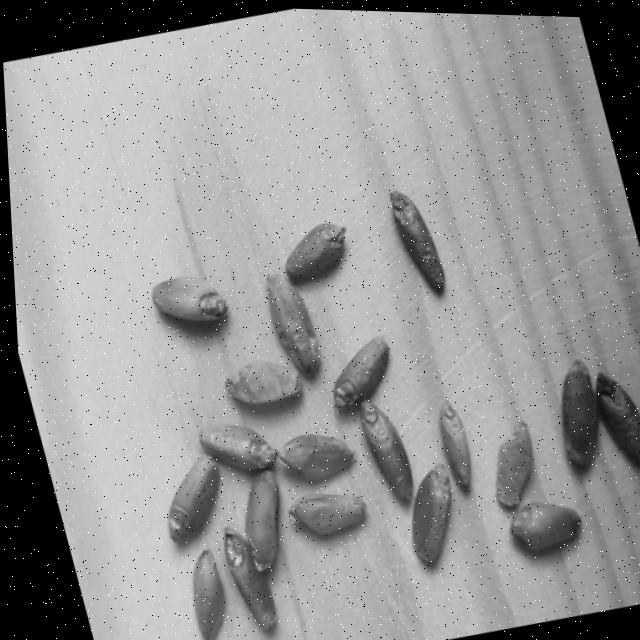wheat_grain: (390, 190, 445, 292), (265, 276, 319, 376), (223, 532, 275, 630), (360, 404, 412, 499), (170, 457, 219, 540), (596, 372, 638, 467), (332, 337, 387, 409), (411, 467, 450, 566), (510, 500, 582, 553), (561, 361, 597, 465), (279, 433, 354, 482), (201, 424, 279, 471), (286, 221, 347, 281), (152, 275, 228, 322), (225, 360, 302, 406), (288, 492, 366, 535), (246, 467, 278, 569), (495, 420, 532, 506), (439, 400, 471, 489), (192, 549, 224, 637)
